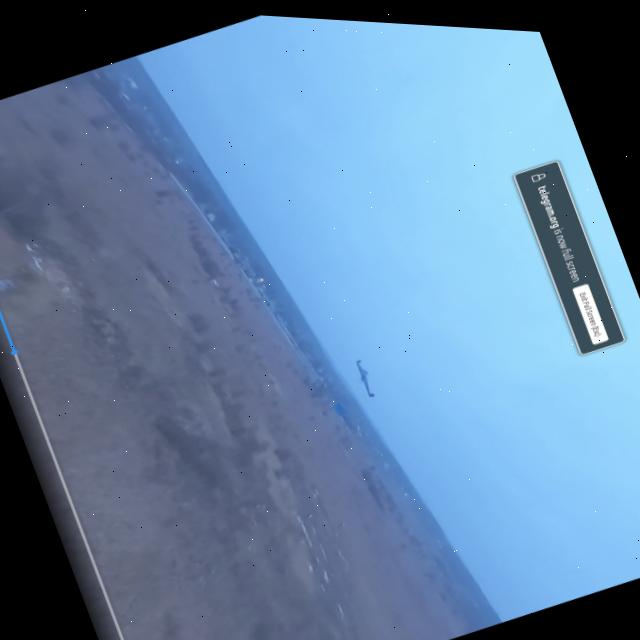planedrone: (347, 353, 387, 405)
